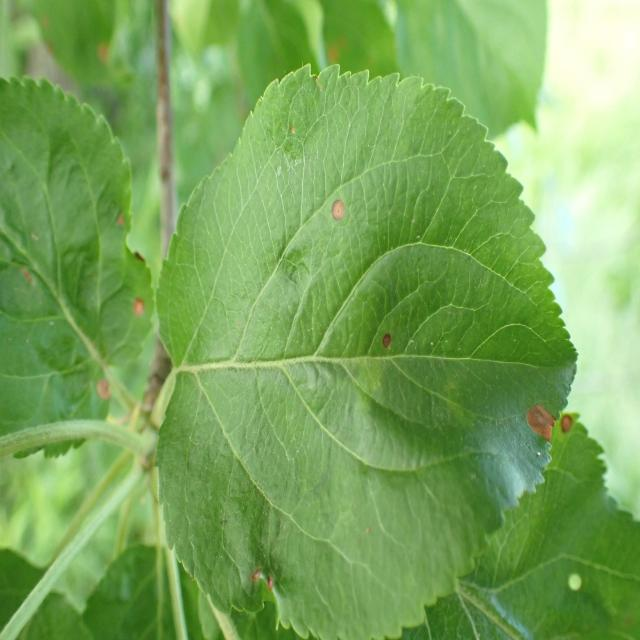Black Rot: (518, 394, 556, 452), (79, 375, 122, 416), (326, 176, 356, 234), (374, 312, 401, 367), (557, 396, 576, 445), (130, 290, 151, 324)
